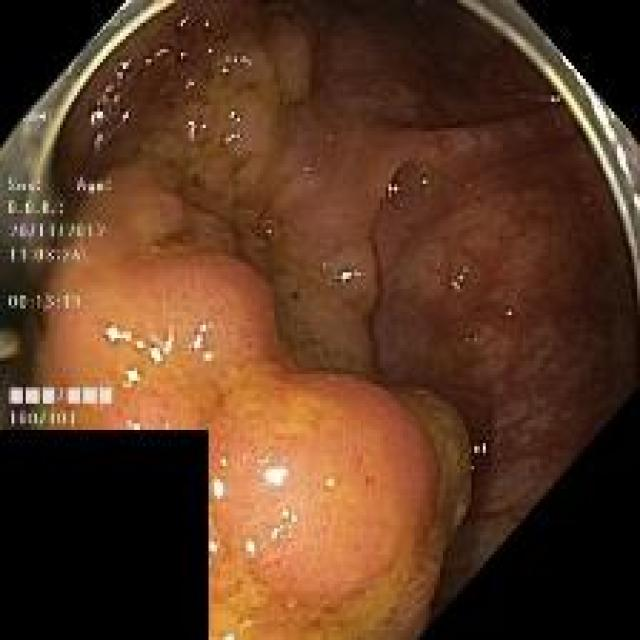Polyps: (29, 168, 470, 640)
